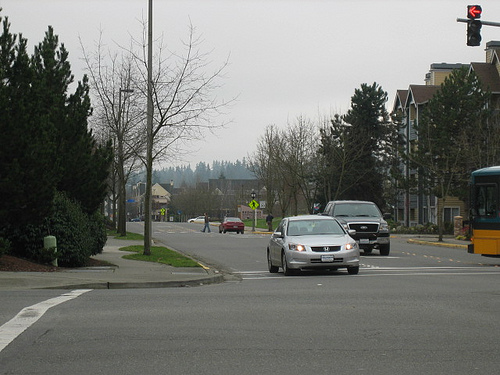Car: (271, 217, 367, 278), (216, 213, 246, 233)
Traffic light: (465, 1, 492, 50)
Truck: (324, 194, 401, 250)
